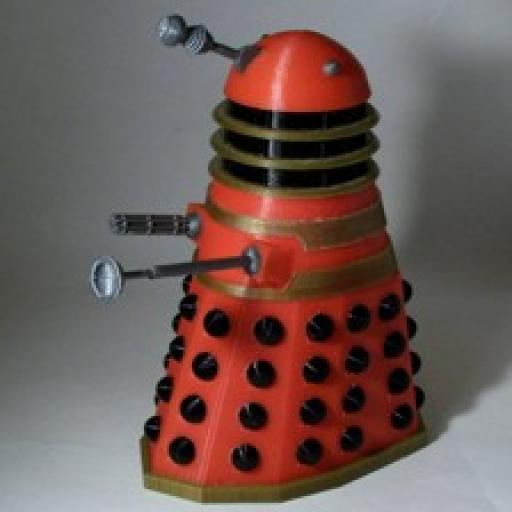dalek: (84, 12, 438, 499)
